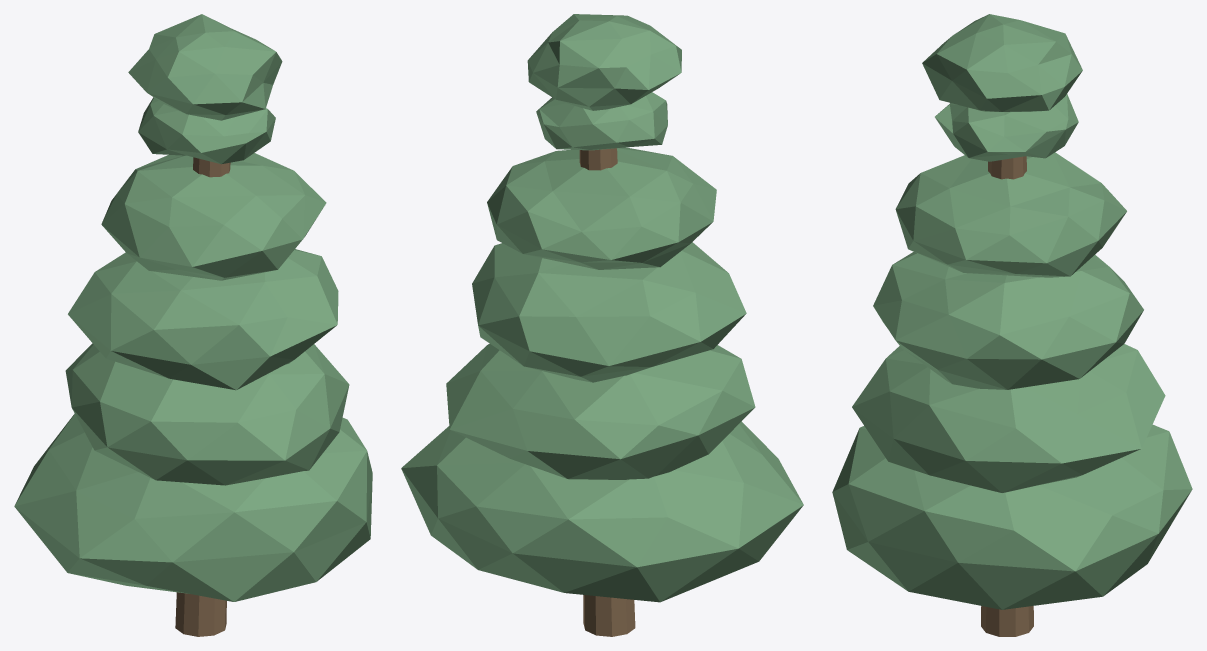
File: detailed_pine_c.glb
3 views of the same model, side by side, from view 1: azimuth 30°, elevation 25°; view 2: azimuth 150°, elevation 25°; view 3: azimuth 270°, elevation 25° (orthographic).
Parts seen in each view (by area): view 1: DetailedPine_23; view 2: DetailedPine_23; view 3: DetailedPine_23.
Boxes of the visible parts, x1=… form: DetailedPine_23: x1=14, y1=14, x2=372, y2=636; DetailedPine_23: x1=401, y1=14, x2=803, y2=636; DetailedPine_23: x1=832, y1=14, x2=1192, y2=636.
Bounding box in the file's own units: 2.61 × 4.5 × 2.44.
